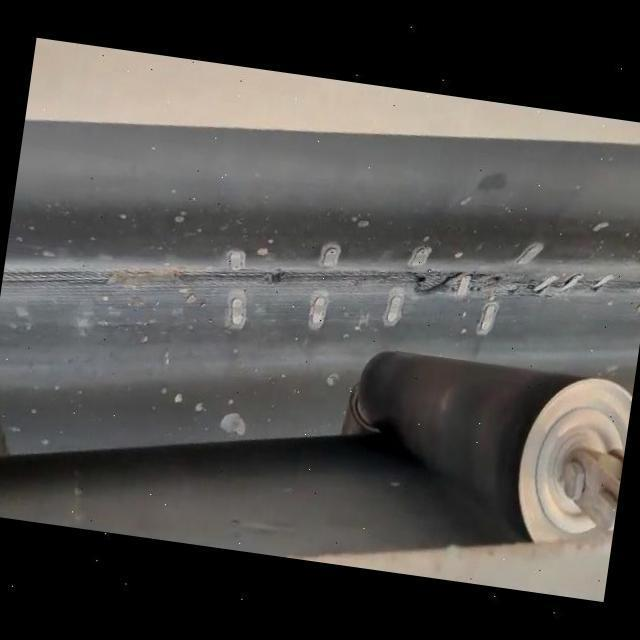Tear: (406, 270, 464, 296)
Wear: (0, 259, 640, 301)
